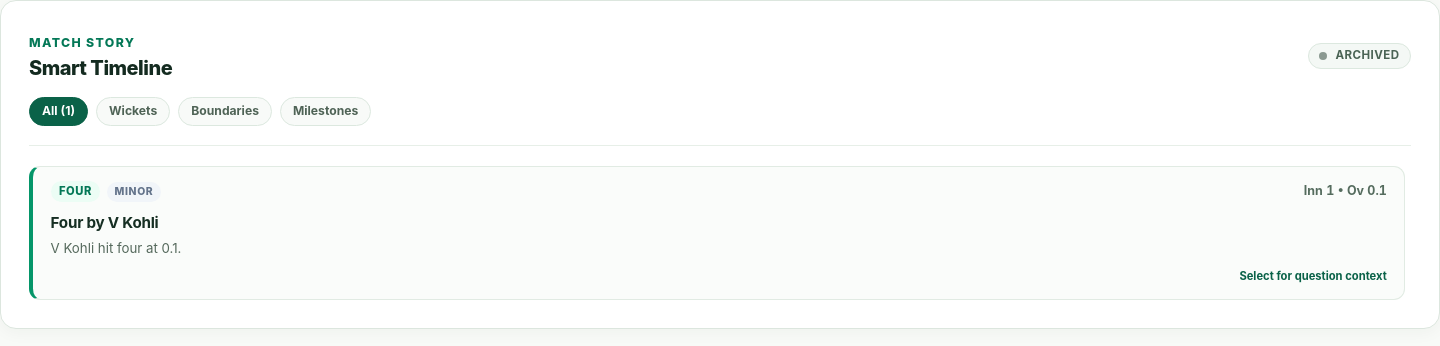
SmartMatchTimeline › toggles selection for in-app question context without seeking video
The image size is (1440, 346).
What coordinates should you click on to do the following:
click the button "Four by V Kohli"
I would click on:
 (717, 233)
Its box is x1=29 y1=166 x2=1405 y2=300.
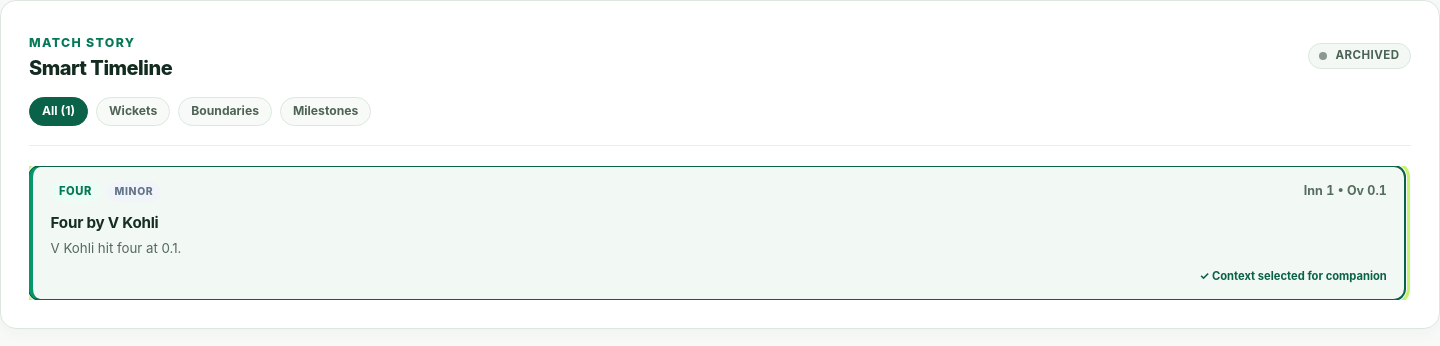
Expected: the text "✓ Context selected for companion" is shown, x1=1199 y1=268 x2=1387 y2=284
